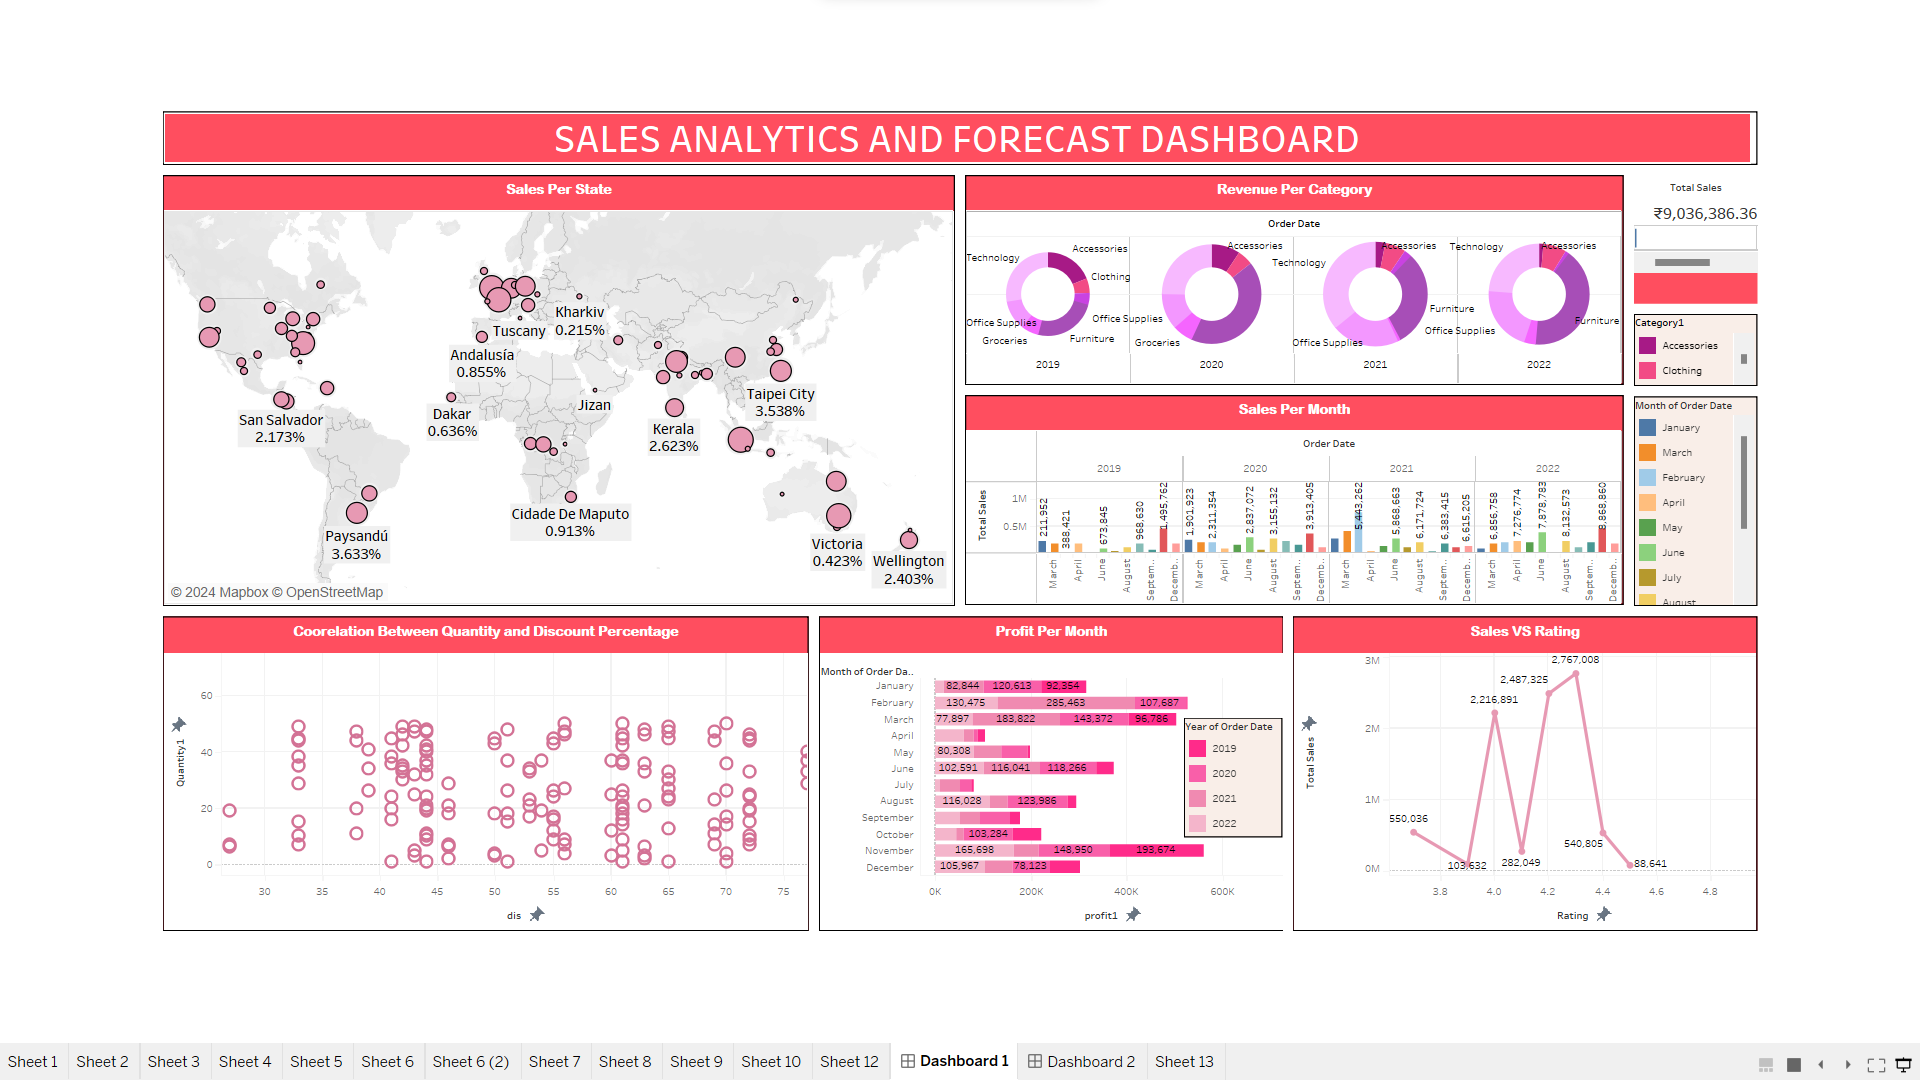

The dashboard page shown, as its layout file describes it:
{"tool":"tableau","page":{"name":"Dashboard 1","canvas":[1300,680],"ordinal":0},"visuals":[{"type":"worksheet","title":"Sheet 12","mark":"Automatic","box":[8,8,1284,51]},{"type":"worksheet","title":"Sheet 5","mark":"Automatic","box":[8,59,642,352.7]},{"type":"worksheet","title":"Sheet 1","mark":"Pie","rows":["Calculation_382243035503038465","Calculation_382243035503038465"],"cols":["Order Date"],"box":[650,59,535,176.3]},{"type":"worksheet","title":"Sheet 13","mark":"Bar","cols":["Calculation_506092026232336385"],"box":[1185,59,107,111]},{"type":"legend","title":"Sheet 1","param":"[federated.0mhcpd412laubh17j15f30r6mtps].[none:Category:nk]","box":[1185,170,107,65.8]},{"type":"worksheet","title":"Sheet 6","mark":"Bar","rows":["Calculation_506092026232336385"],"cols":["Order Date","Order Date"],"box":[650,235.3,535,176.3]},{"type":"legend","title":"Sheet 6","param":"[federated.0mhcpd412laubh17j15f30r6mtps].[mn:Order Date:ok]","box":[1185,235.8,107,175.9]},{"type":"worksheet","title":"Sheet 4","mark":"Automatic","rows":["Quantity"],"cols":["Calculation_431219681469607939"],"box":[8,411.7,524.5,260.3]},{"type":"worksheet","title":"Sheet 7","mark":"Bar","rows":["Order Date"],"cols":["Calculation_506092026237984775"],"box":[532.5,411.7,379.7,260.3]},{"type":"worksheet","title":"Sheet 3","mark":"Automatic","rows":["Calculation_506092026232336385"],"cols":["Rating"],"box":[912.3,411.7,379.7,260.3]},{"type":"legend","title":"Sheet 7","param":"[federated.0mhcpd412laubh17j15f30r6mtps].[yr:Order Date:ok]","box":[829,497,79,96]}]}

Visuals, with their boxes on the page's 1300x680 design canvas (x1, y1, x2, y2). These are canvas units, not pixel positions in the 1920x1080 screenshot, which may show the page scaled, cropped or inside an application window:
"Sheet 12" worksheet: 8,8,1292,59
"Sheet 5" worksheet: 8,59,650,412
"Sheet 1" worksheet (Pie marks): 650,59,1185,235
"Sheet 13" worksheet (Bar marks): 1185,59,1292,170
"Sheet 1" legend: 1185,170,1292,236
"Sheet 6" worksheet (Bar marks): 650,235,1185,412
"Sheet 6" legend: 1185,236,1292,412
"Sheet 4" worksheet: 8,412,532,672
"Sheet 7" worksheet (Bar marks): 532,412,912,672
"Sheet 3" worksheet: 912,412,1292,672
"Sheet 7" legend: 829,497,908,593
